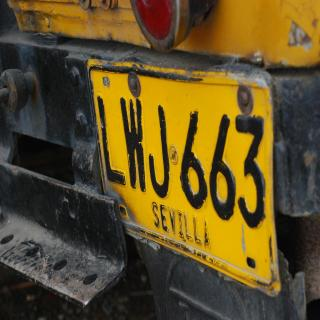license: (89, 70, 278, 301)
